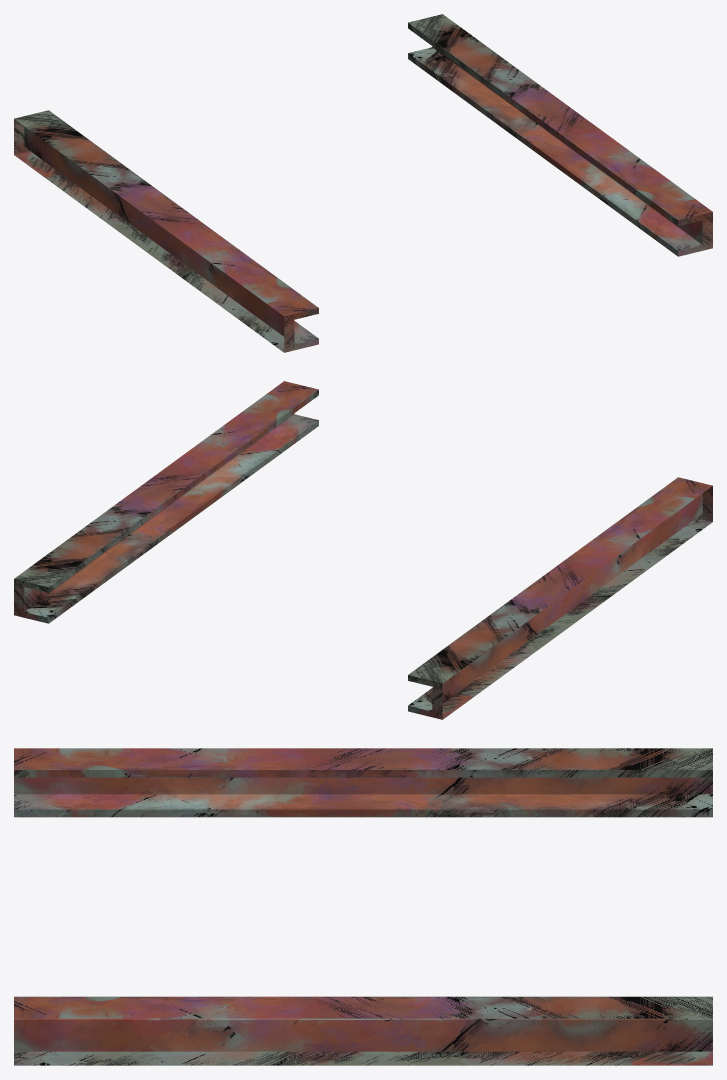
File: Railes.fbx
3 renders of one model, top to bottom at view 1: azimuth 30°, elevation 25°; view 2: azimuth 150°, elevation 25°; view 3: azimuth 270°, elevation 25°, orthographic. The views are drawn at different scales.
Parts seen in each view (by area): view 1: Railes; view 2: Railes; view 3: Railes.
Part boxes in pixels (x1=…): Railes: x1=14, y1=14, x2=712, y2=352; Railes: x1=14, y1=381, x2=712, y2=719; Railes: x1=14, y1=748, x2=712, y2=1065.
Size of the model in its own units: 1.13 by 0.0914 by 1.23.
Materials: 2 (2 with a texture image).
